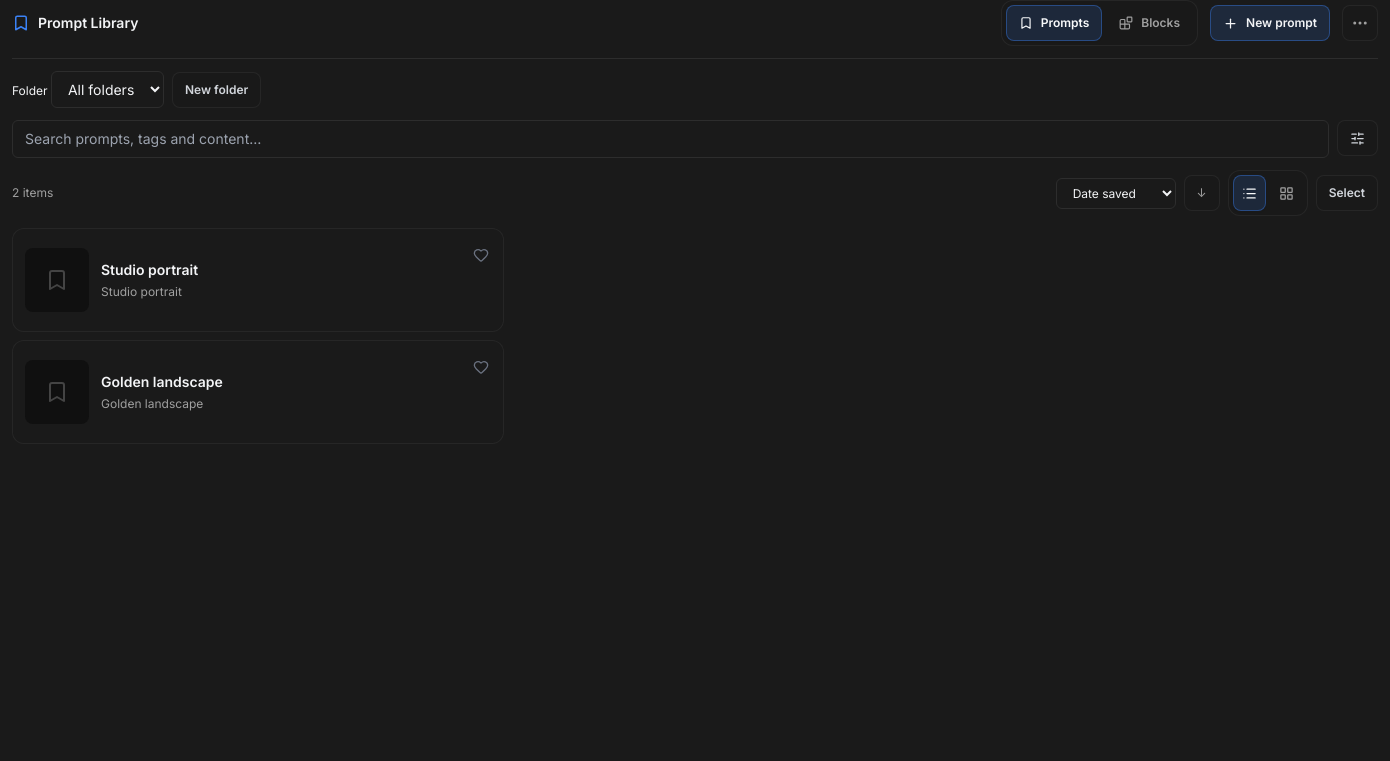
integrated Prompt Library › opens context-menu Edit from the latest block after suggestion saving, already finished=false
Check: the button with aria-label "Open Studio portrait" is shown, box [25,248,491,312]
Click the button "Blocks" at [1150, 23], box [1106,5,1193,41]
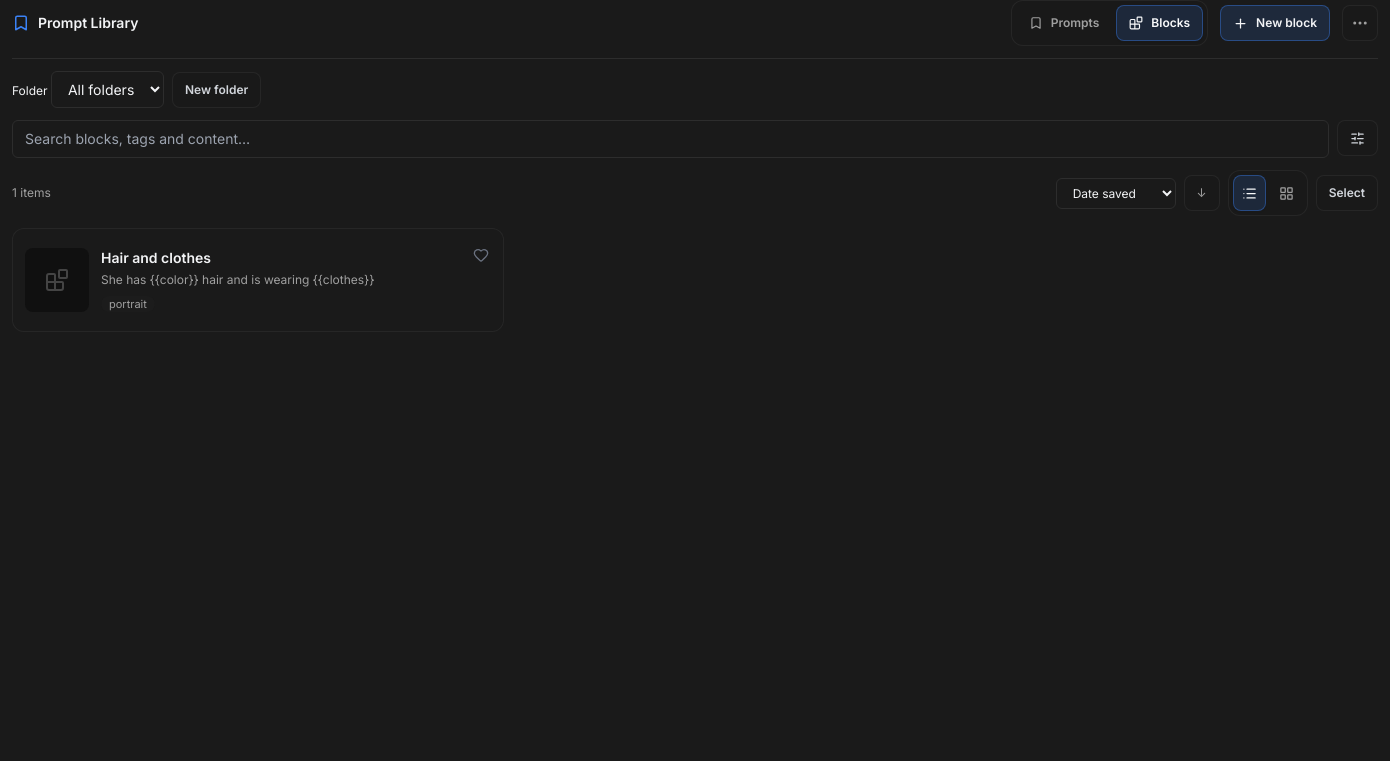
Click the button with aria-label "Open Hair and clothes" at [258, 280], box [25,248,491,312]
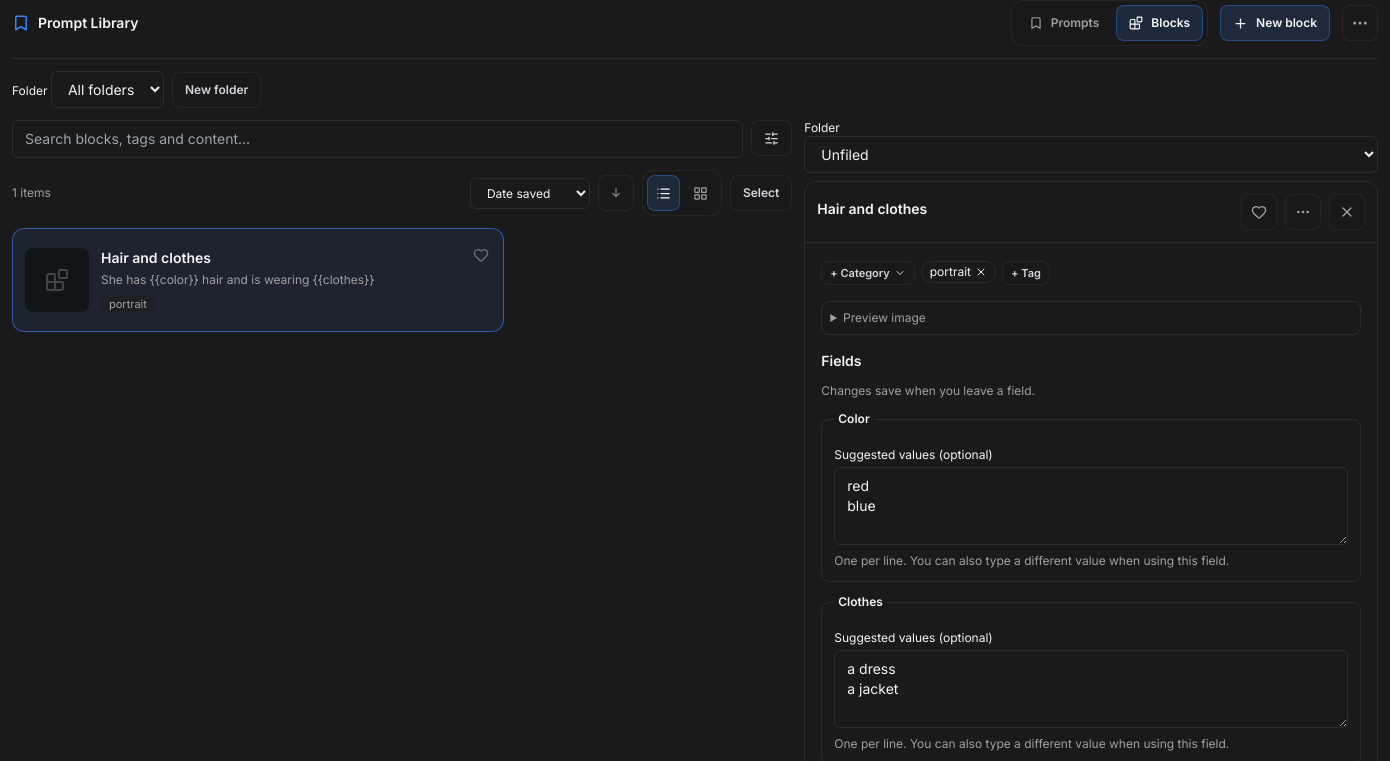
Replace the text in the text box named "Suggested values for color" with "green" at [1091, 506], box [834,467,1348,545]
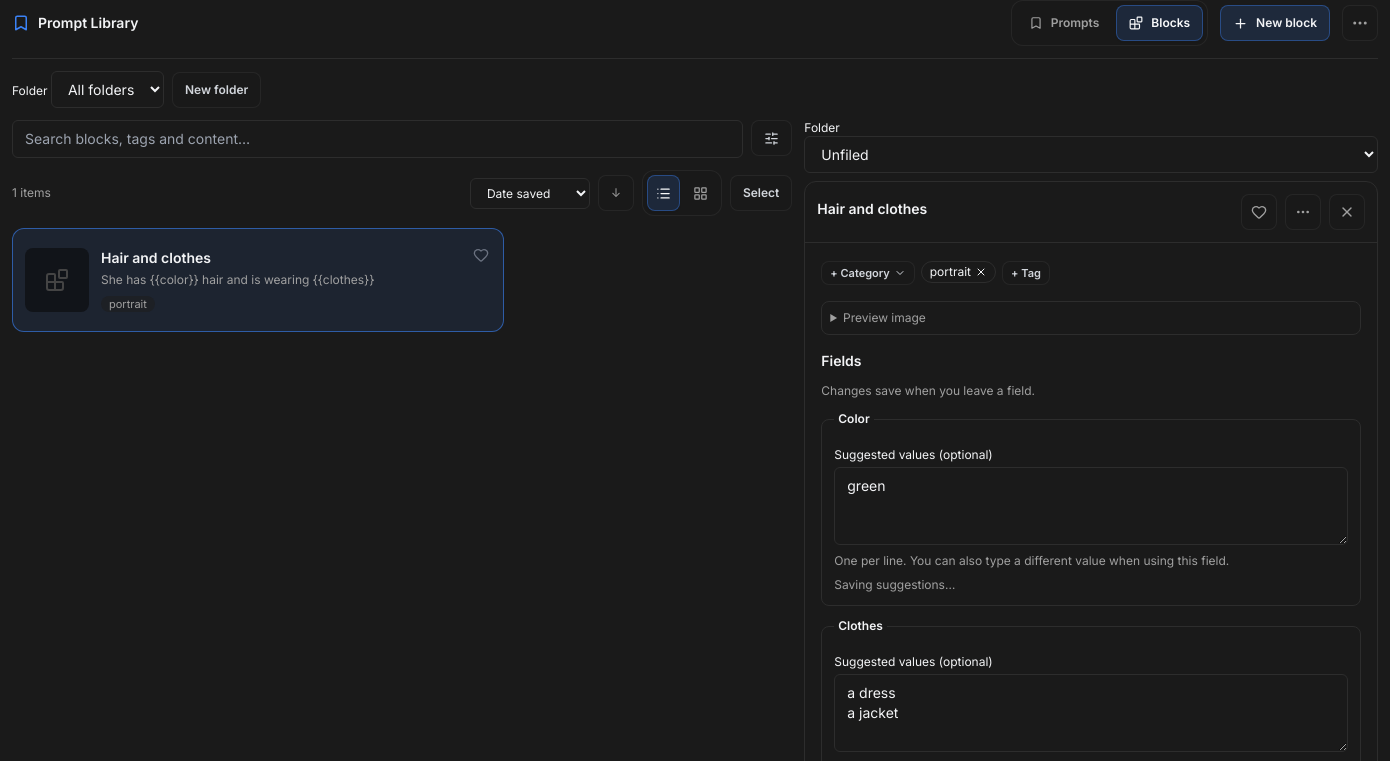
Right-click the element named "Open Hair and clothes" at [258, 280], box [12,228,504,332]
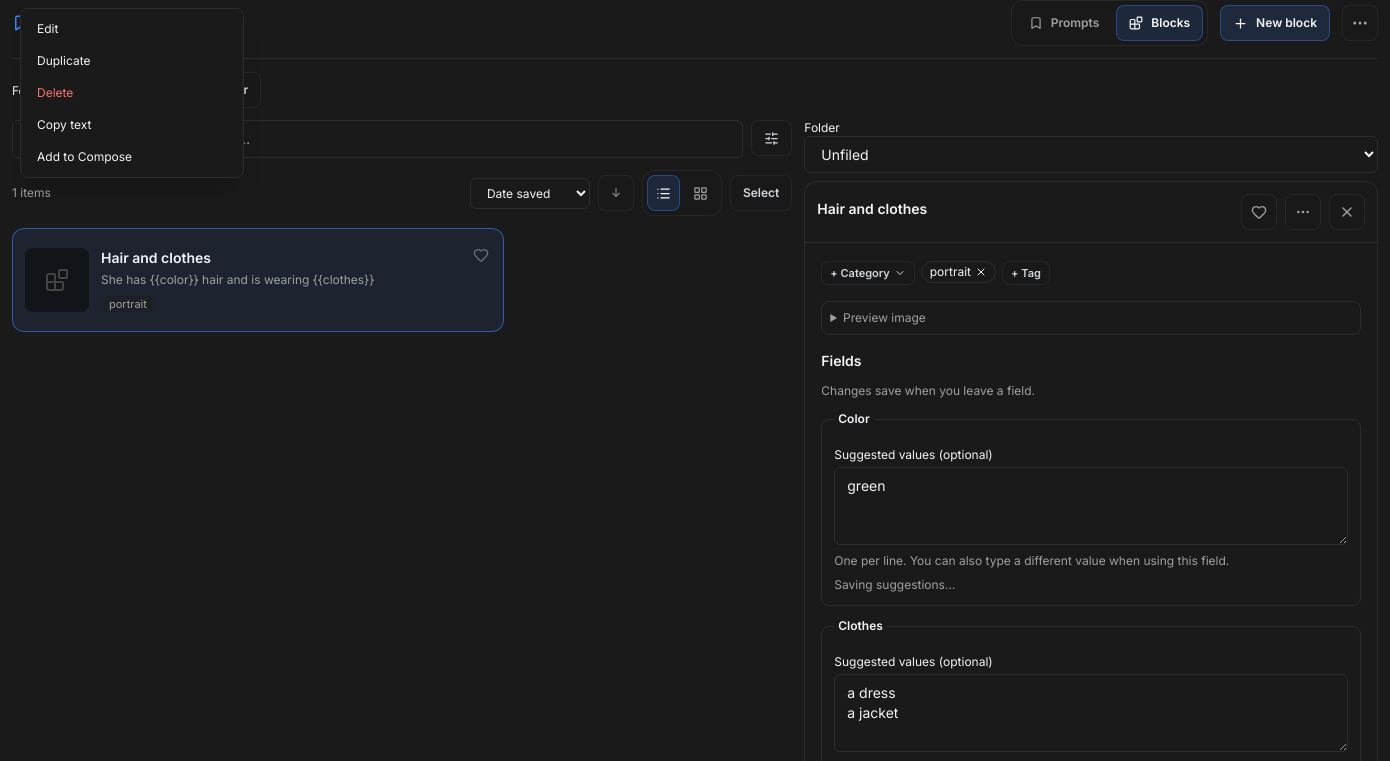
Click the menu item "Edit" at [132, 29], box [25,13,239,45]
(page scrolled)
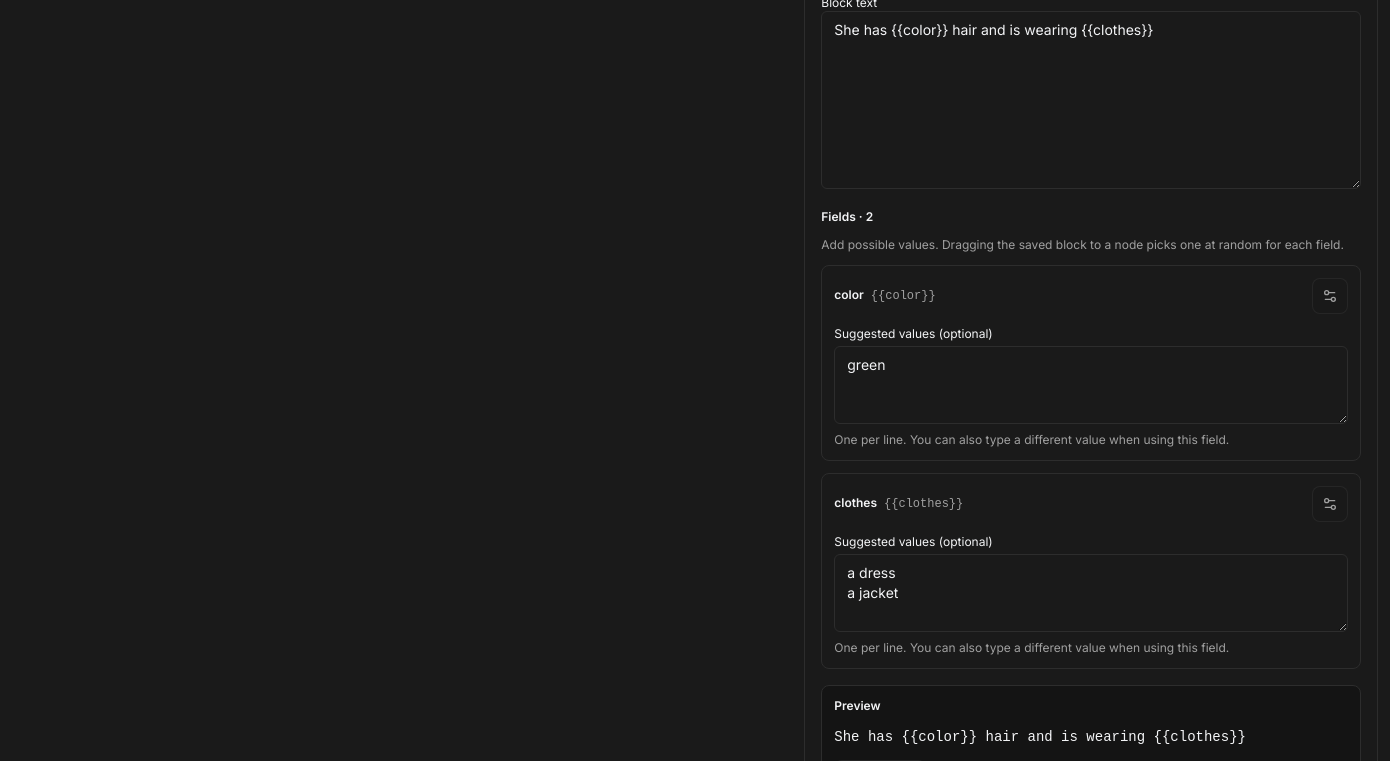
Check: the text box named "Suggested values for color" holds "green", box [834,346,1348,424]
Check: the message "Saving suggestions…" is gone
